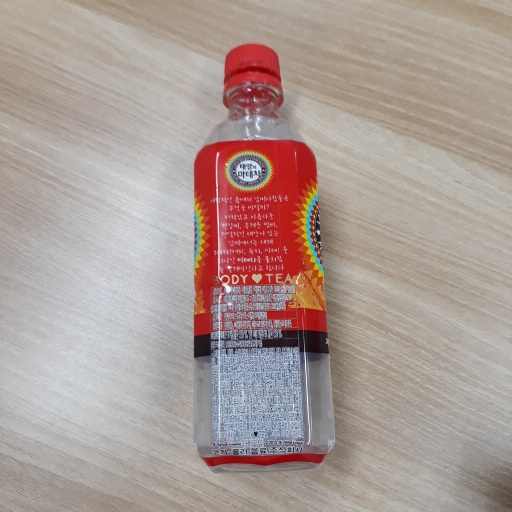Plastic_0: (189, 45, 335, 475)
